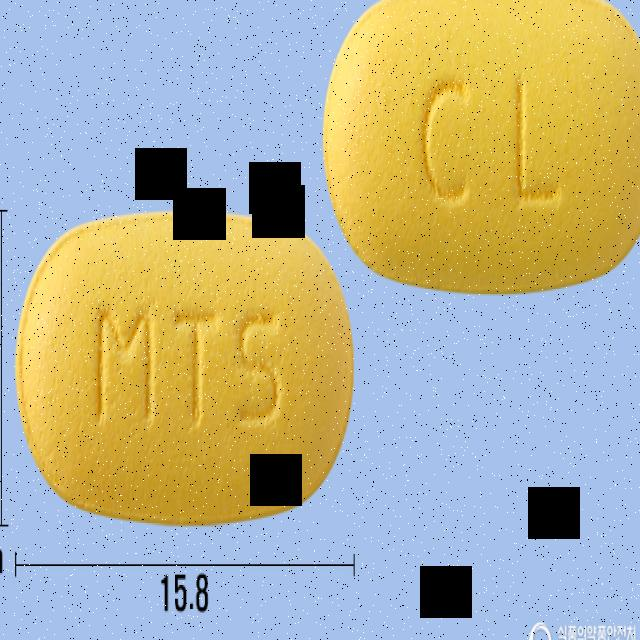Clarimacin - 500mg: (14, 206, 358, 534), (323, 0, 640, 291)
